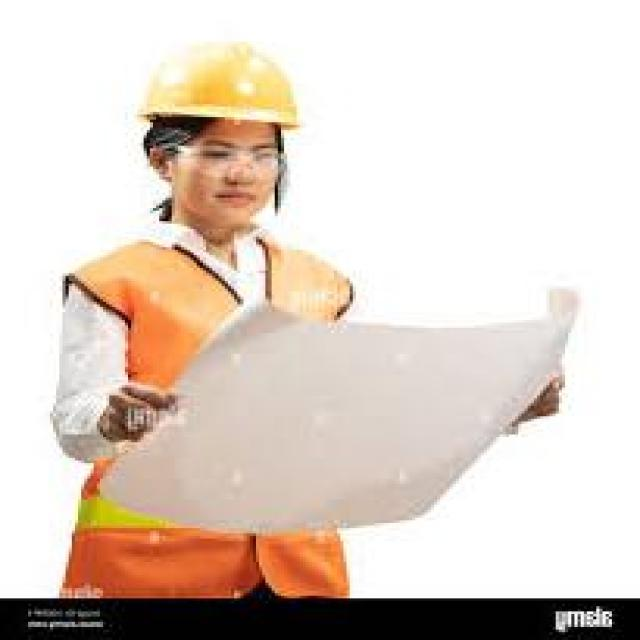Reflective-Jacket: (47, 221, 371, 606)
Safety-Helmet: (128, 31, 309, 141)
